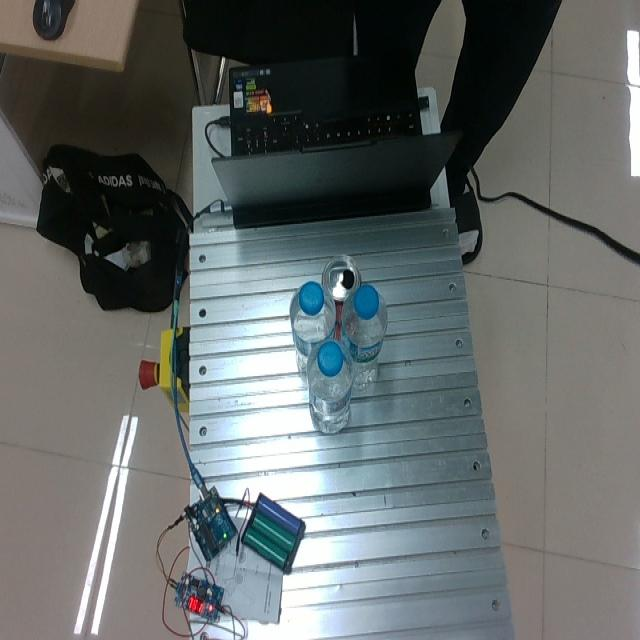coca: (321, 255, 361, 337)
lavie: (341, 286, 388, 390), (306, 339, 354, 432), (290, 283, 337, 376)
